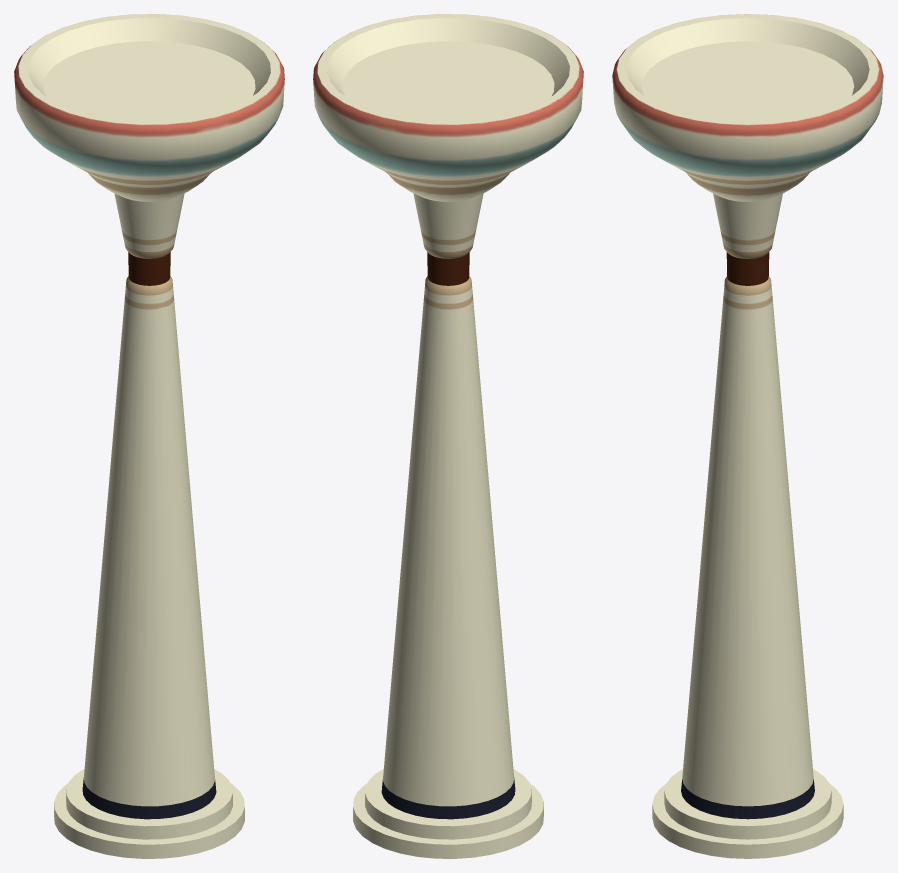
File: Pilar Porta.fbx
The picture shows the model from 3 angles, left to right: view 1: azimuth 30°, elevation 25°; view 2: azimuth 150°, elevation 25°; view 3: azimuth 270°, elevation 25°; orthographic projection.
Parts seen in each view (by area): view 1: Base; view 2: Base; view 3: Base.
Boxes of the visible parts, <box> form: Base: <box>14,14,284,858</box>; Base: <box>313,14,583,858</box>; Base: <box>612,14,883,858</box>.
Size of the model in its own units: 45.42 by 138 by 45.42.
